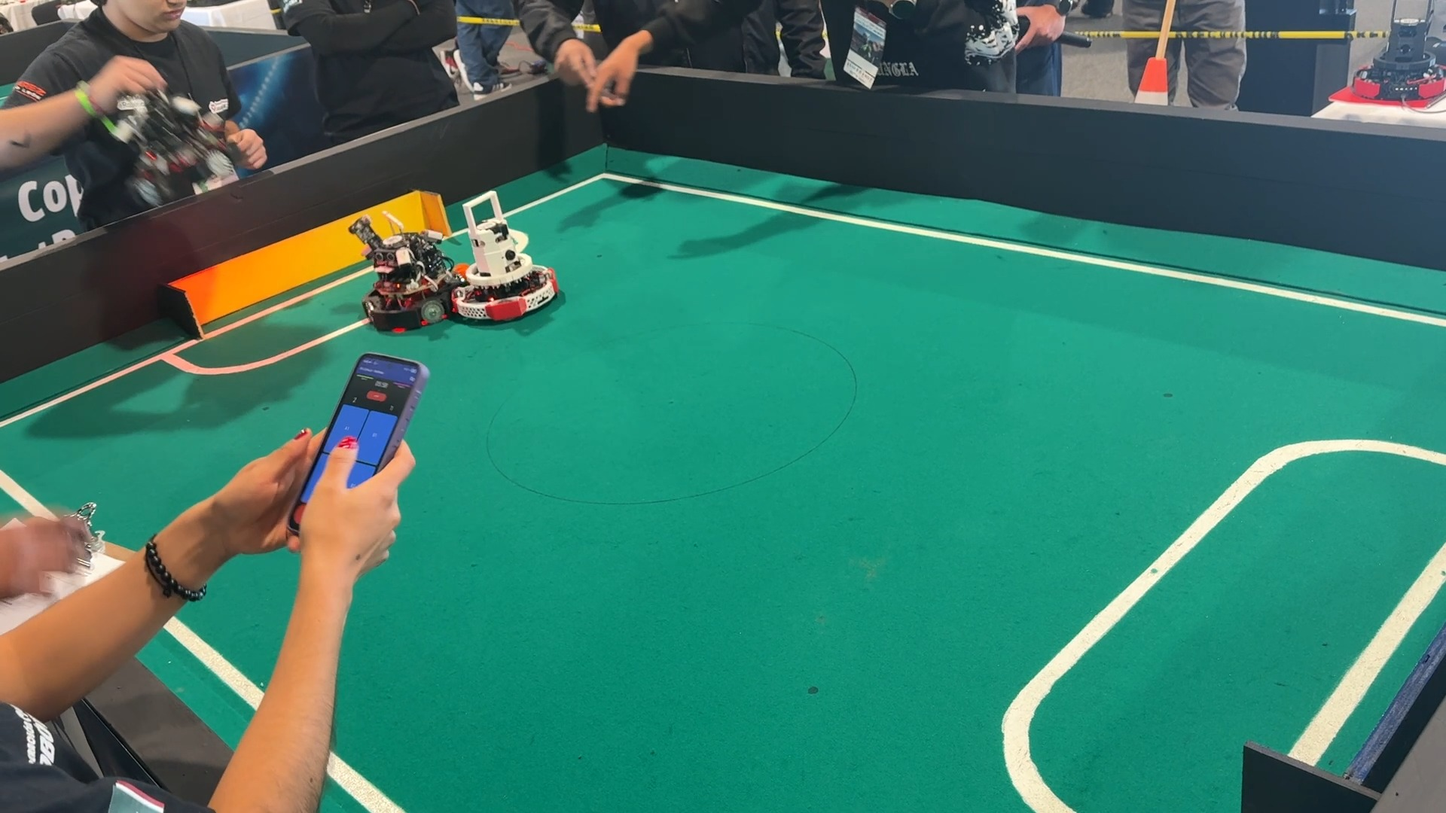Robot: (346, 199, 491, 342), (442, 188, 572, 342)
